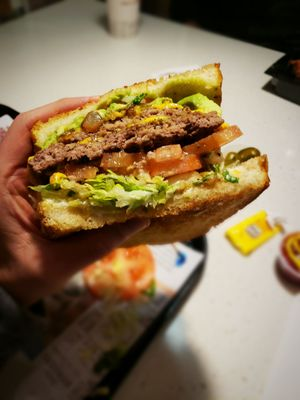soup: (23, 62, 273, 242)
